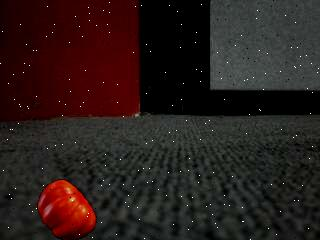Pumpkin: (37, 180, 96, 240)
